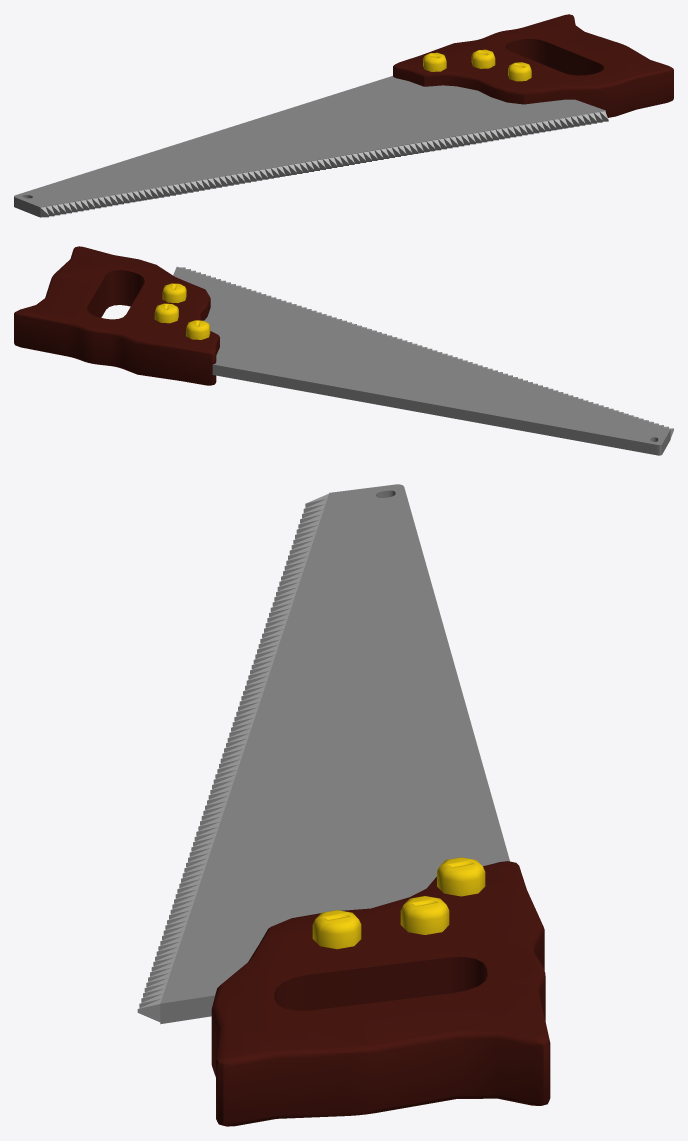
Rendered from Serrote.fbx.
The picture shows the model from 3 angles, top to bottom: view 1: azimuth 30°, elevation 25°; view 2: azimuth 150°, elevation 25°; view 3: azimuth 270°, elevation 25°; orthographic projection. The views are drawn at different scales.
Visible parts, largest first — view 1: Serrote, Serrote_parafuso.001, Serrote_parafuso; view 2: Serrote, Serrote_parafuso, Serrote_parafuso.001; view 3: Serrote, Serrote_parafuso.001, Serrote_parafuso.
Part boxes in pixels (x1,y1,x2,y2): Serrote: (14,14,673,217); Serrote_parafuso.001: (40,111,608,217); Serrote_parafuso: (423,49,531,81); Serrote: (14,246,670,455); Serrote_parafuso: (154,283,210,339); Serrote_parafuso.001: (180,267,673,438); Serrote: (160,484,550,1126); Serrote_parafuso.001: (137,493,328,1021); Serrote_parafuso: (312,857,485,949).
Bounding box in the file's own units: 148 × 11.8 × 43.06.
